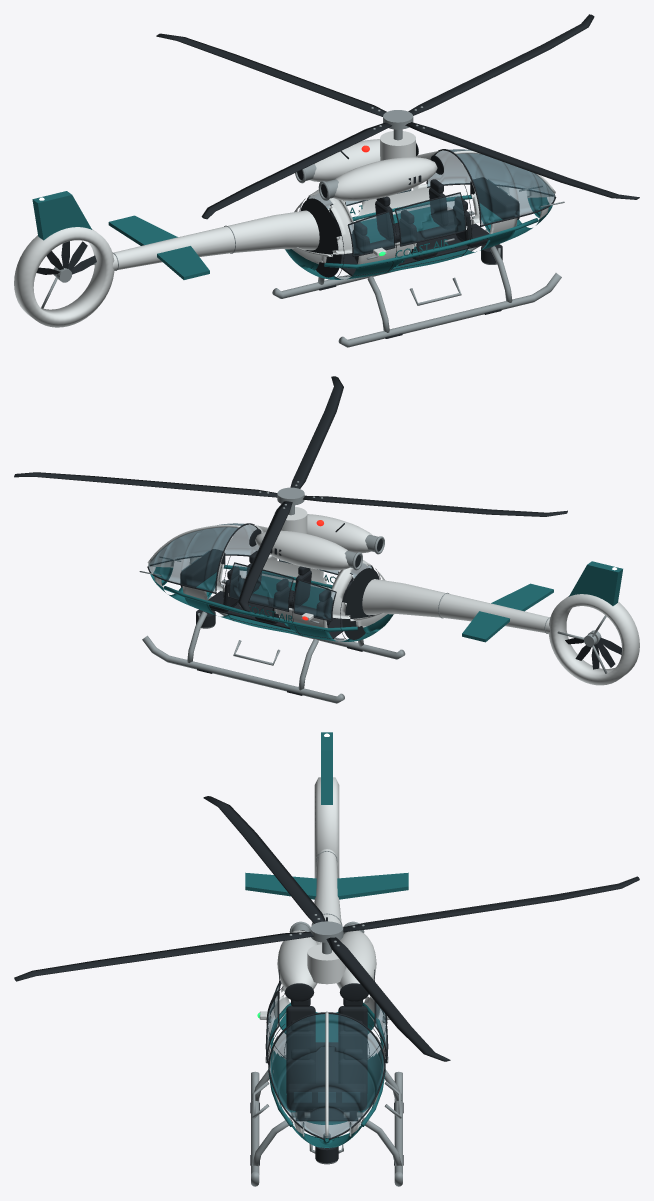
Rendered from helicopter_civilian.glb.
3 views of the same model, one above another, from view 1: azimuth 30°, elevation 25°; view 2: azimuth 150°, elevation 25°; view 3: azimuth 270°, elevation 25° (orthographic). The views are drawn at different scales.
Visible parts, largest first — view 1: Airframe, MainRotor, TailRotor; view 2: Airframe, MainRotor, TailRotor; view 3: Airframe, MainRotor.
Boxes of the visible parts, x1,y1,x2,y2 form: Airframe: [14, 129, 564, 347]; MainRotor: [156, 14, 639, 219]; TailRotor: [36, 241, 96, 282]; Airframe: [139, 505, 639, 703]; MainRotor: [14, 376, 567, 611]; TailRotor: [565, 630, 621, 669]; Airframe: [245, 732, 408, 1186]; MainRotor: [14, 796, 639, 1061].
Bounding box in the file's own units: 12.08 × 3.52 × 9.58.
